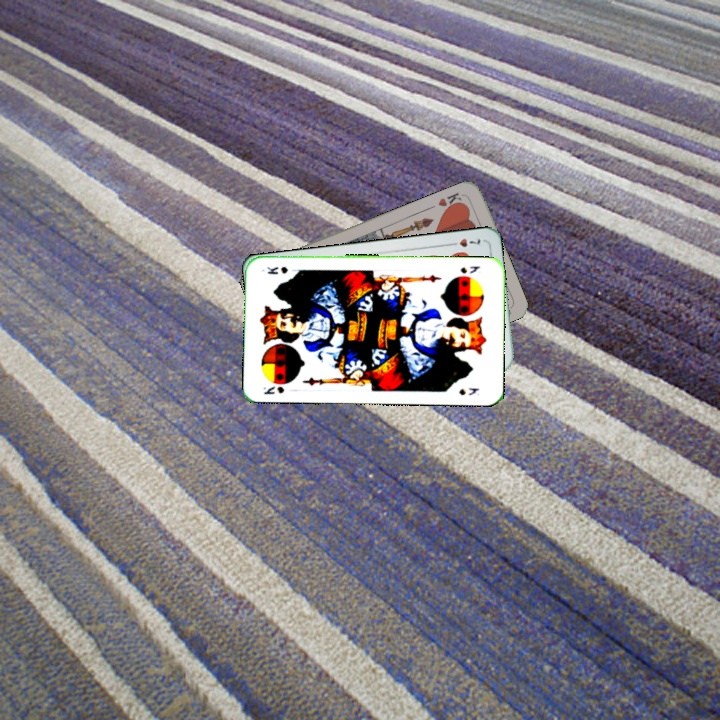H7: (444, 234, 483, 250)
HK: (434, 188, 468, 213)
SK: (260, 382, 287, 397), (457, 262, 483, 276)
